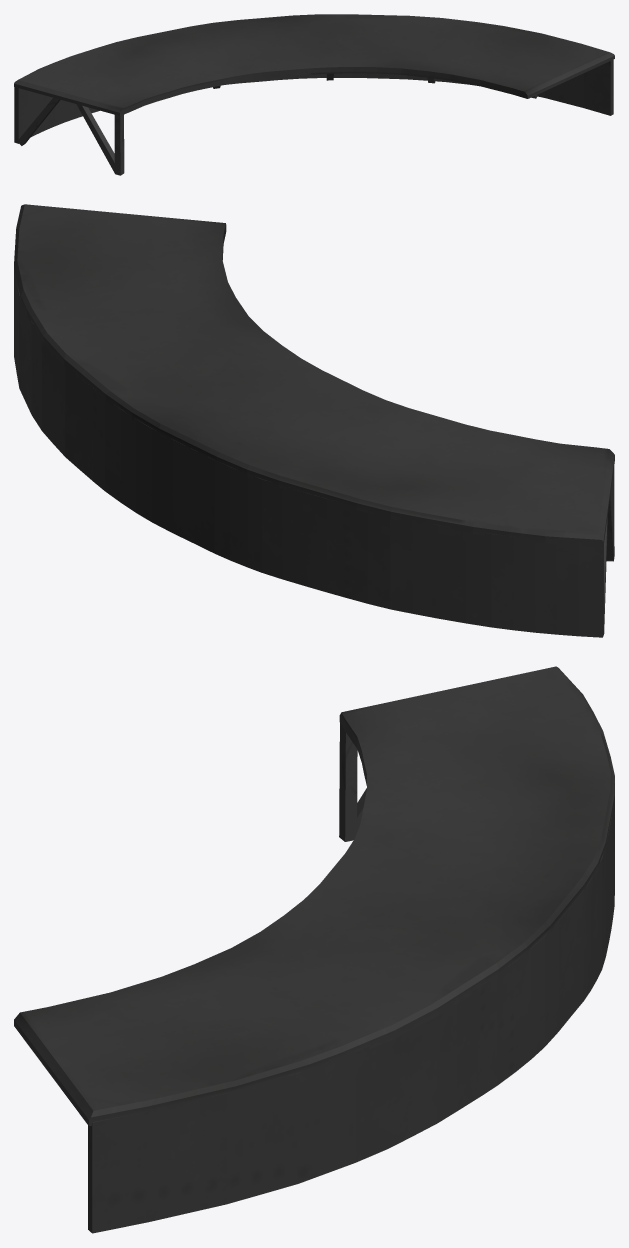
File: Final_Side table of middle platform.glb
3 views of the same model, one above another, from view 1: azimuth 30°, elevation 25°; view 2: azimuth 150°, elevation 25°; view 3: azimuth 270°, elevation 25° (orthographic). The views are drawn at different scales.
Visible parts, largest first — view 1: Cube, Cube.004, Cube.005, Cube.002; view 2: Cube; view 3: Cube, Cube.005.
Part boxes in pixels (bbox=[...]): Cube: bbox=[14, 14, 614, 143]; Cube.004: bbox=[76, 104, 119, 173]; Cube.005: bbox=[114, 114, 124, 175]; Cube.002: bbox=[18, 98, 60, 145]; Cube: bbox=[14, 204, 614, 637]; Cube: bbox=[14, 666, 614, 1233]; Cube.005: bbox=[339, 723, 357, 841].
Size of the model in its own units: 62.64 by 8.25 by 35.28.
Materials: 9 (9 with a texture image).
